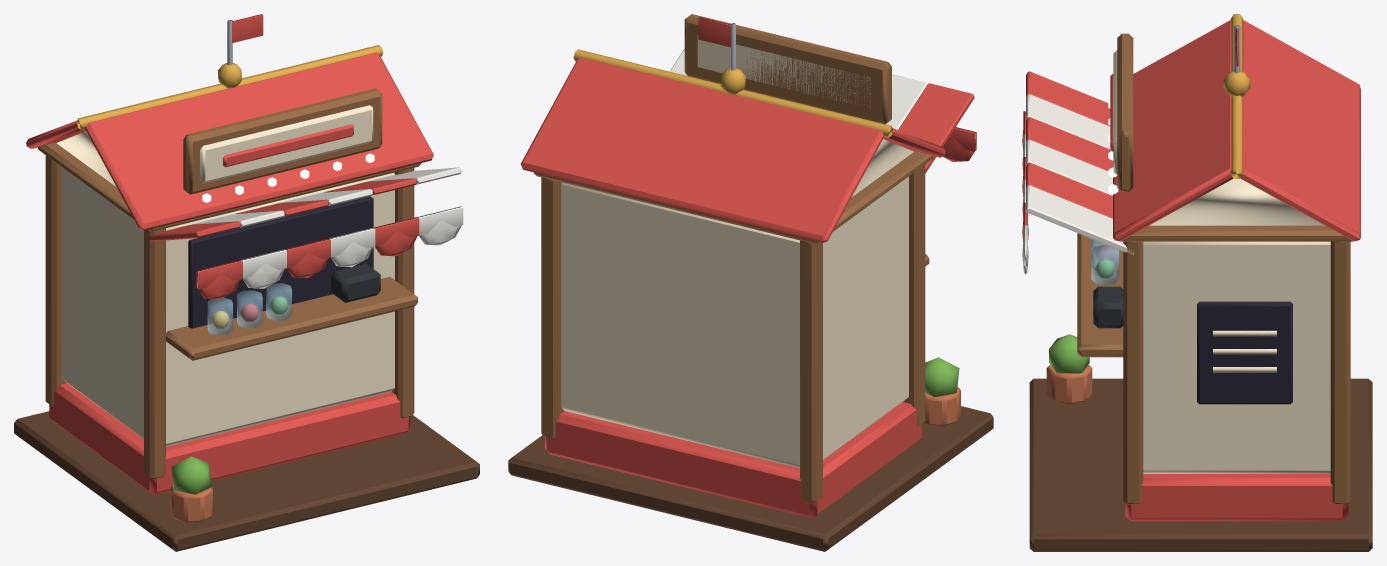
Rendered from stall.glb.
3 views of the same model, side by side, from view 1: azimuth 30°, elevation 25°; view 2: azimuth 150°, elevation 25°; view 3: azimuth 270°, elevation 25° (orthographic). The views are drawn at different scales.
Visible parts, largest first — view 1: base_pw_cream_paint, base_pw_accent_paint, base_pw_wood, base_pw_darkwood, base_pw_dark_paint, base_pw_accent_canvas, base_pw_white_canvas, base_pw_glass, base_pw_gold_brass, base_pw_iron_iron, base_pw_terracotta, base_pw_leaf2; view 2: base_pw_cream_paint, base_pw_accent_paint, base_pw_wood, base_pw_darkwood, base_pw_accent_canvas, base_pw_gold_brass, base_pw_white_canvas, base_pw_leaf2, base_pw_terracotta; view 3: base_pw_accent_paint, base_pw_cream_paint, base_pw_darkwood, base_pw_wood, base_pw_dark_paint, base_pw_white_canvas, base_pw_accent_canvas, base_pw_gold_brass, base_pw_terracotta, base_pw_iron_iron, base_pw_leaf2, base_pw_glass.
Part boxes in pixels (x1,y1,x2,y2): base_pw_cream_paint: [56, 105, 394, 446]; base_pw_accent_paint: [26, 52, 433, 494]; base_pw_wood: [38, 88, 421, 479]; base_pw_darkwood: [14, 411, 479, 551]; base_pw_dark_paint: [188, 196, 373, 328]; base_pw_accent_canvas: [148, 14, 419, 299]; base_pw_white_canvas: [192, 167, 463, 288]; base_pw_glass: [207, 283, 291, 335]; base_pw_gold_brass: [76, 45, 383, 129]; base_pw_iron_iron: [331, 263, 380, 302]; base_pw_terracotta: [170, 485, 212, 522]; base_pw_leaf2: [171, 456, 211, 494]; base_pw_cream_paint: [561, 35, 913, 468]; base_pw_accent_paint: [520, 57, 945, 518]; base_pw_wood: [533, 14, 933, 502]; base_pw_darkwood: [508, 406, 993, 551]; base_pw_accent_canvas: [698, 17, 976, 173]; base_pw_gold_brass: [573, 49, 892, 137]; base_pw_white_canvas: [670, 49, 927, 129]; base_pw_leaf2: [925, 357, 959, 397]; base_pw_terracotta: [923, 386, 960, 426]; base_pw_accent_paint: [1110, 20, 1360, 521]; base_pw_cream_paint: [1113, 50, 1330, 473]; base_pw_darkwood: [1029, 378, 1372, 551]; base_pw_wood: [1077, 33, 1352, 504]; base_pw_dark_paint: [1197, 301, 1292, 404]; base_pw_white_canvas: [1022, 94, 1134, 274]; base_pw_accent_canvas: [1022, 28, 1238, 242]; base_pw_gold_brass: [1223, 14, 1250, 178]; base_pw_terracotta: [1046, 364, 1092, 404]; base_pw_iron_iron: [1093, 286, 1123, 328]; base_pw_leaf2: [1049, 334, 1089, 373]; base_pw_glass: [1091, 239, 1119, 285].
Size of the model in its own units: 0.94 by 1.24 by 0.8781.
